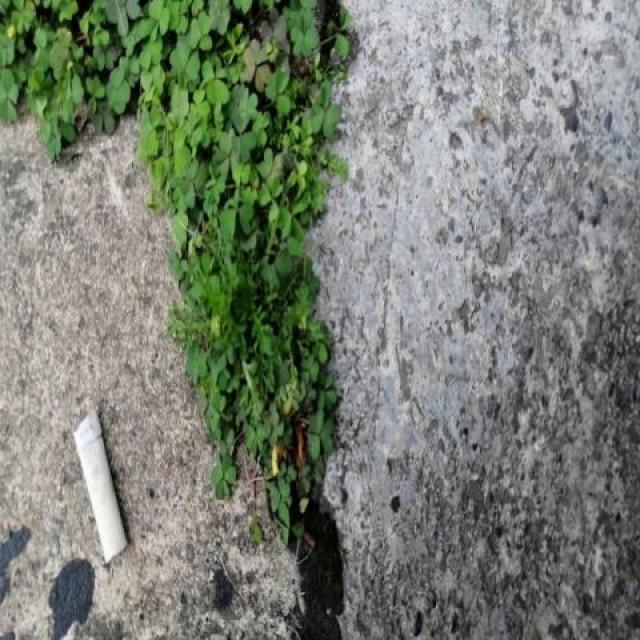non-organic waste: (64, 400, 139, 572)
